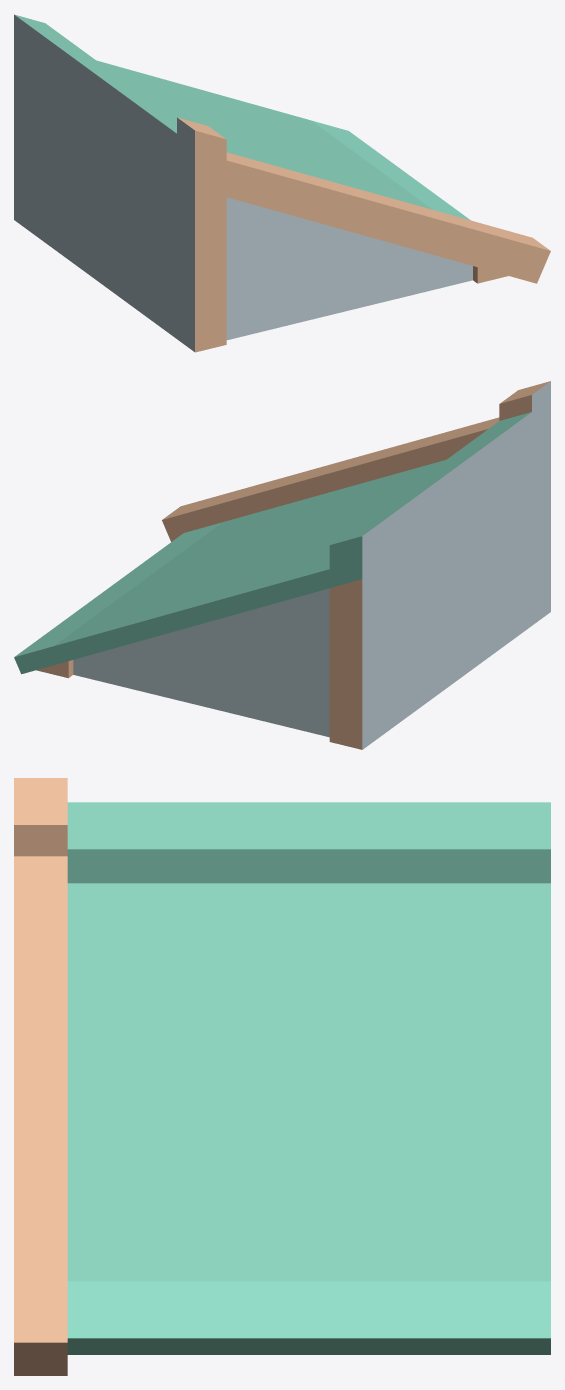
Rendered from roofLeft.glb.
The picture shows the model from 3 angles, top to bottom: view 1: azimuth 30°, elevation 25°; view 2: azimuth 150°, elevation 25°; view 3: azimuth 270°, elevation 25°; orthographic projection. The views are drawn at different scales.
Parts seen in each view (by area): view 1: roofLeft; view 2: roofLeft; view 3: roofLeft.
Part boxes in pixels (box(x1,y1,x2,y2)): roofLeft: box(14, 14, 550, 352); roofLeft: box(14, 381, 550, 749); roofLeft: box(14, 778, 550, 1375).
Size of the model in its own units: 1.13 by 0.7206 by 1.
